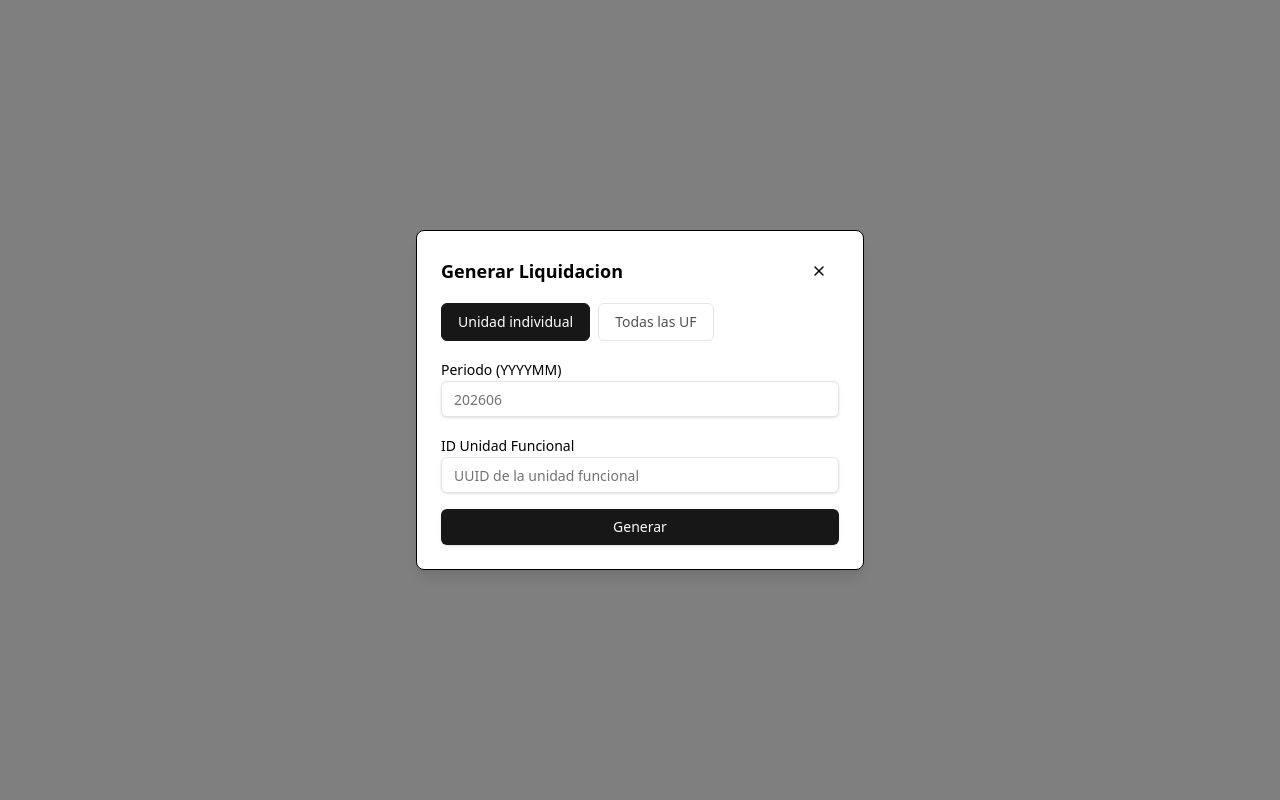
Test: GenerateModal › calls onBatchGenerate when confirmed in dialog
Later steps or results of the test are not shown.
Click the button "Todas las UF" at (656,322), box [598, 303, 714, 341]
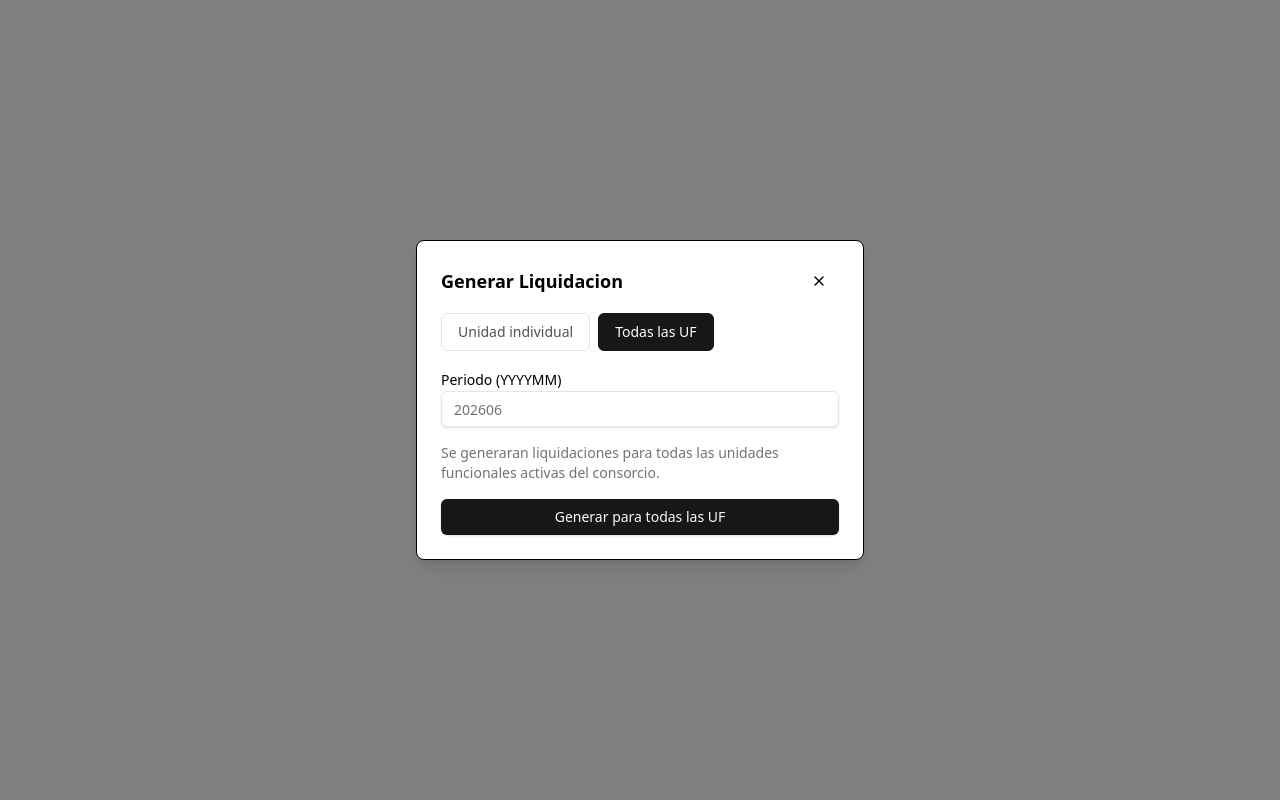
Type "202607" into the field labelled "Periodo (YYYYMM)" at (640,409), box [441, 391, 839, 427]
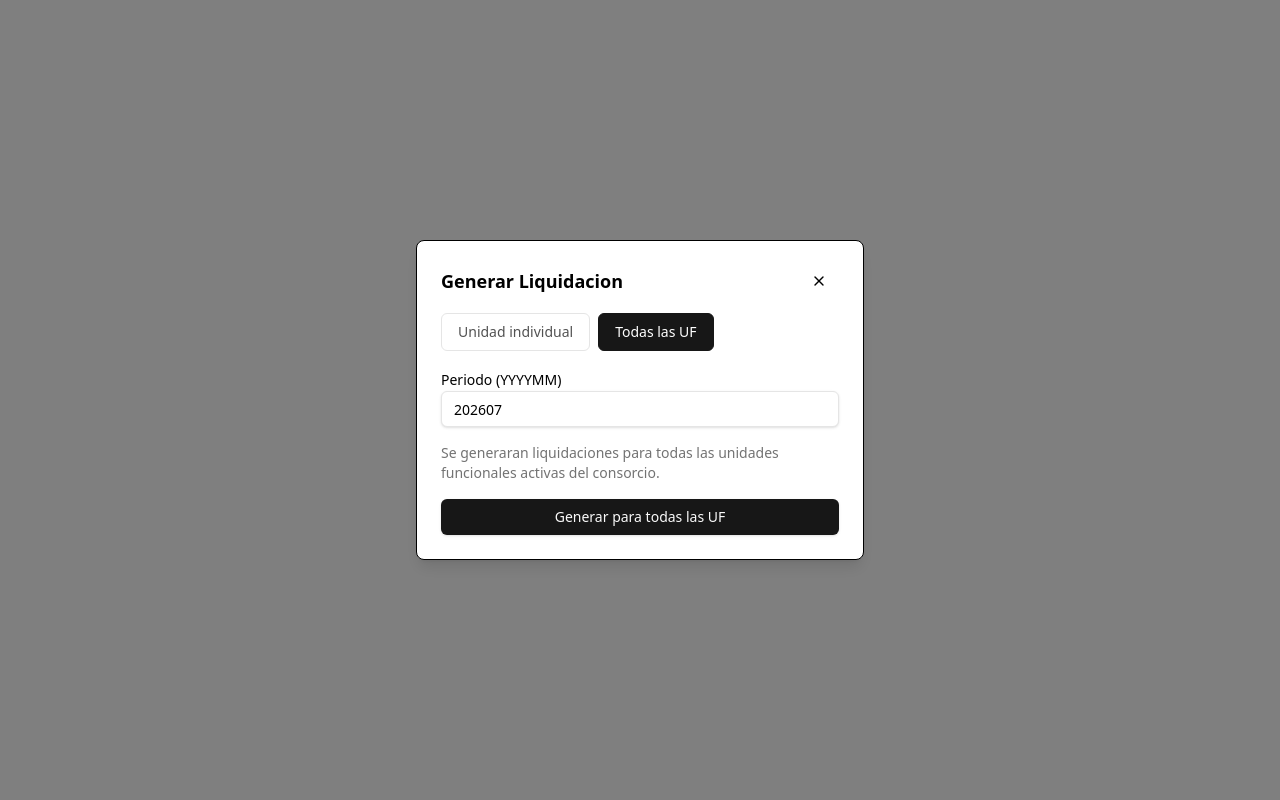
Click the button "Generar para todas las UF" at (640,517), box [441, 499, 839, 535]
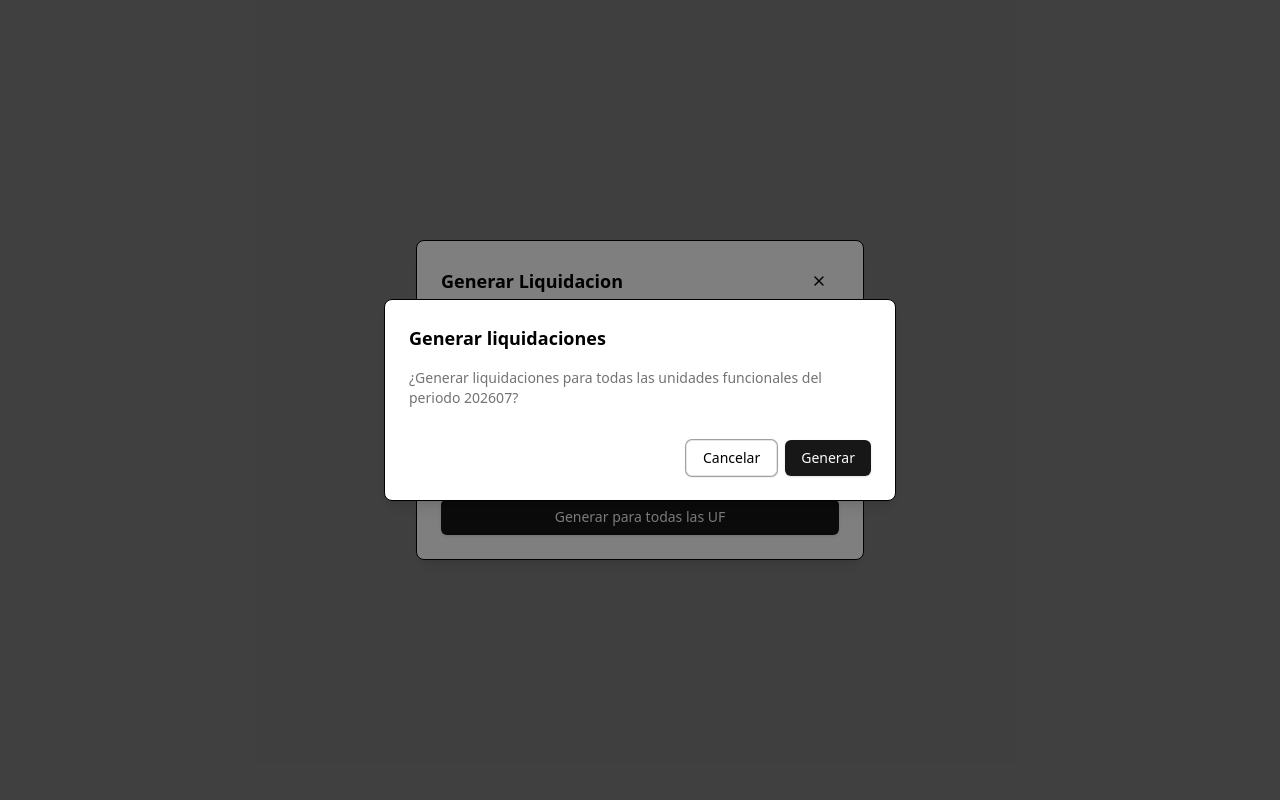
Result: the text "¿Generar liquidaciones para todas las unidades funcionales del periodo 202607?" is shown at [409, 368, 871, 408]
